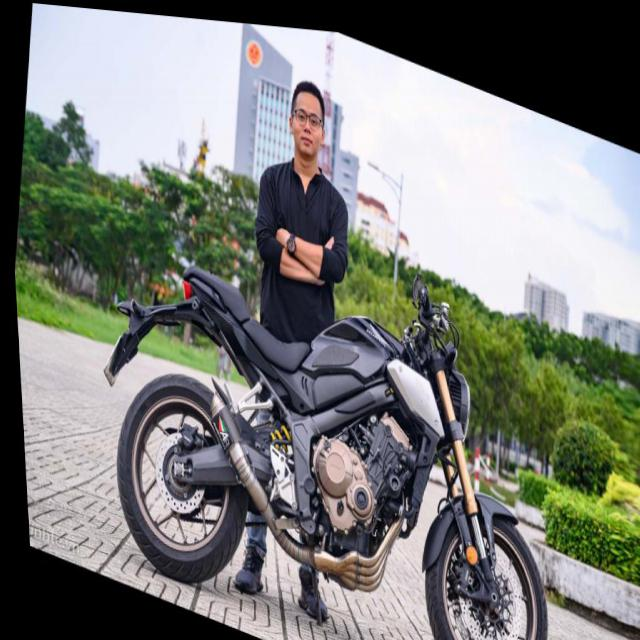CB650R: (89, 207, 577, 639)
